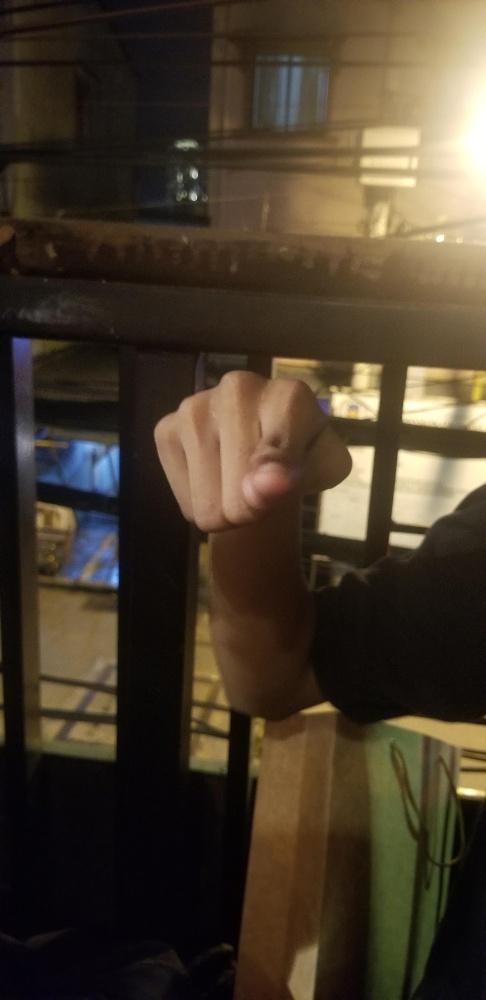z: (150, 368, 352, 531)
